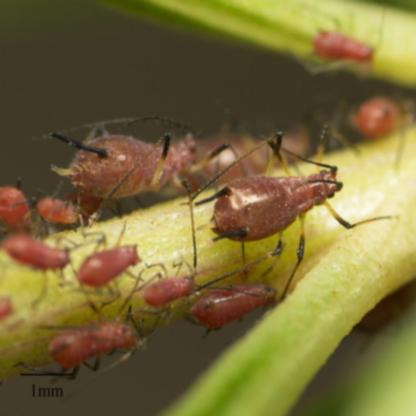uroleucon compositae: (196, 153, 354, 264), (53, 133, 227, 199), (79, 224, 142, 285)
